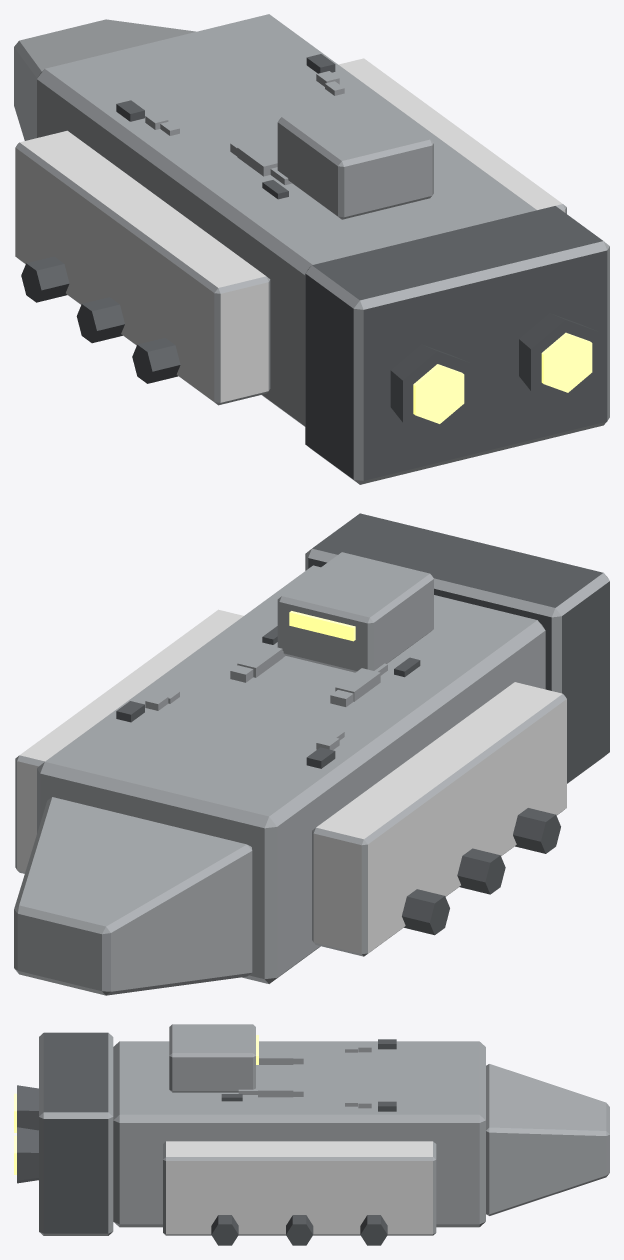
The model's file is human_assault_mk1.glb.
The picture shows the model from 3 angles, top to bottom: view 1: azimuth 30°, elevation 25°; view 2: azimuth 150°, elevation 25°; view 3: azimuth 270°, elevation 25°; orthographic projection. The views are drawn at different scales.
Visible parts, largest first — view 1: human_assault_mk1_LOD0; view 2: human_assault_mk1_LOD0; view 3: human_assault_mk1_LOD0.
Part boxes in pixels (left/top/right/bottom): human_assault_mk1_LOD0: left=14, top=14, right=609, bottom=484; human_assault_mk1_LOD0: left=14, top=513, right=609, bottom=995; human_assault_mk1_LOD0: left=14, top=1024, right=609, bottom=1245.
Size of what is drawn, in the model's own units: 5.1 by 2.8 by 9.6.
